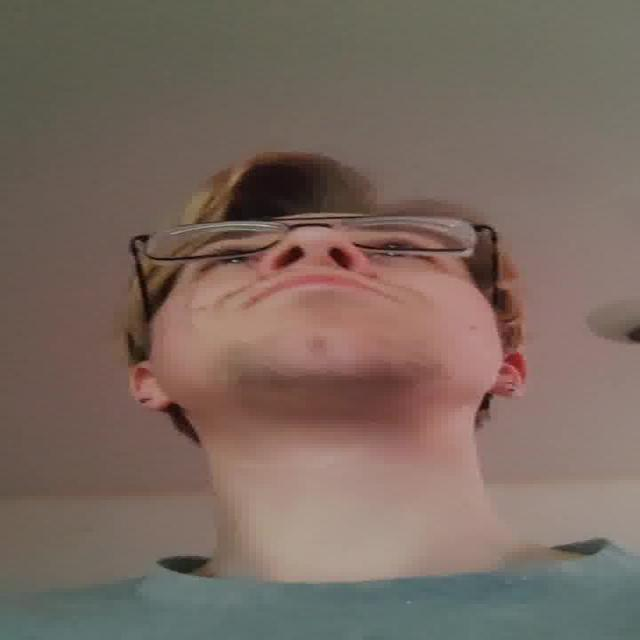earlobe: (133, 393, 179, 413), (484, 379, 527, 398)
eye: (366, 239, 431, 264), (200, 251, 262, 271)
nose: (264, 256, 368, 280)
wholeear: (128, 361, 179, 412), (483, 344, 530, 398)
